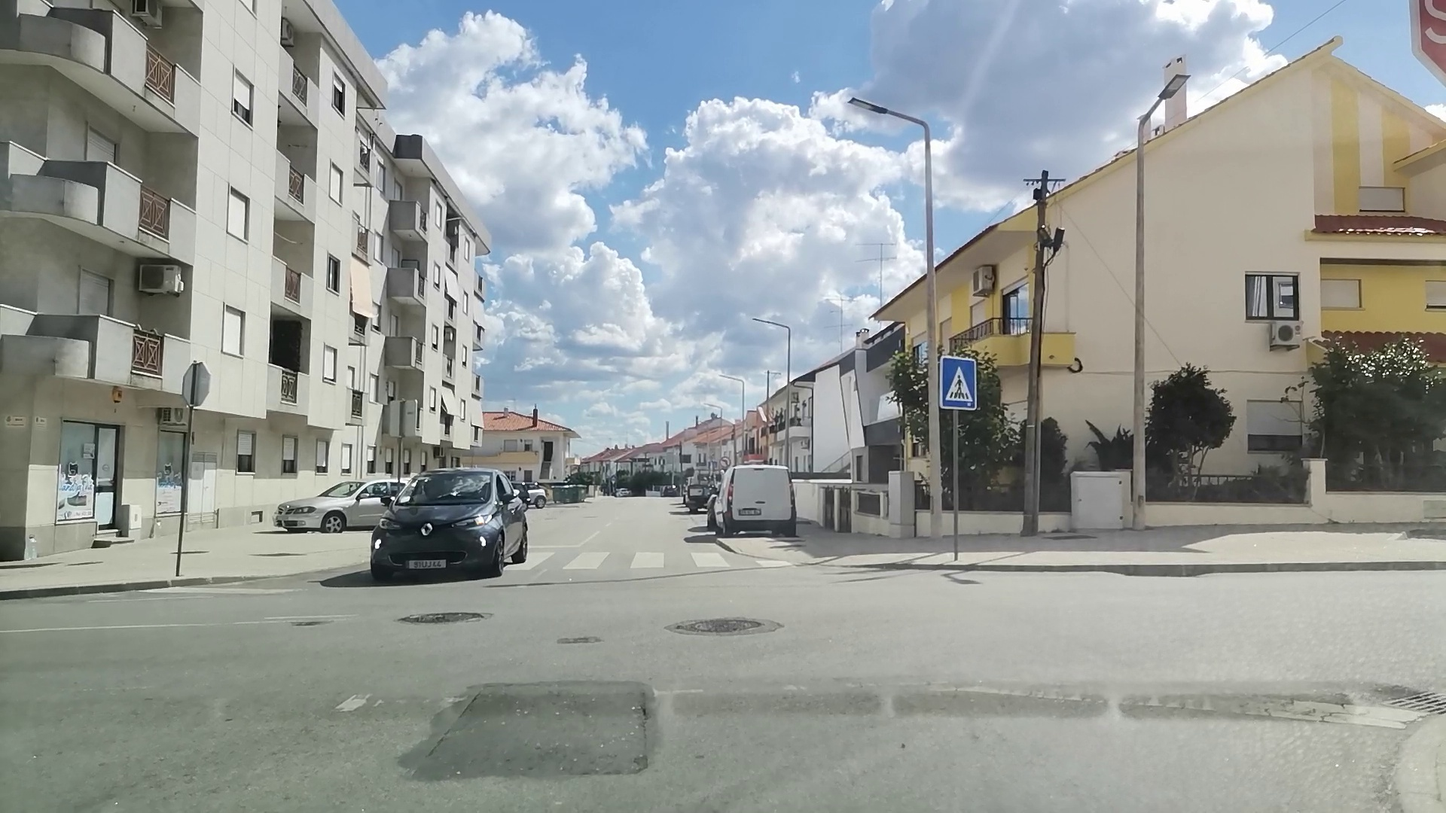Stairs: (520, 551, 796, 568)
